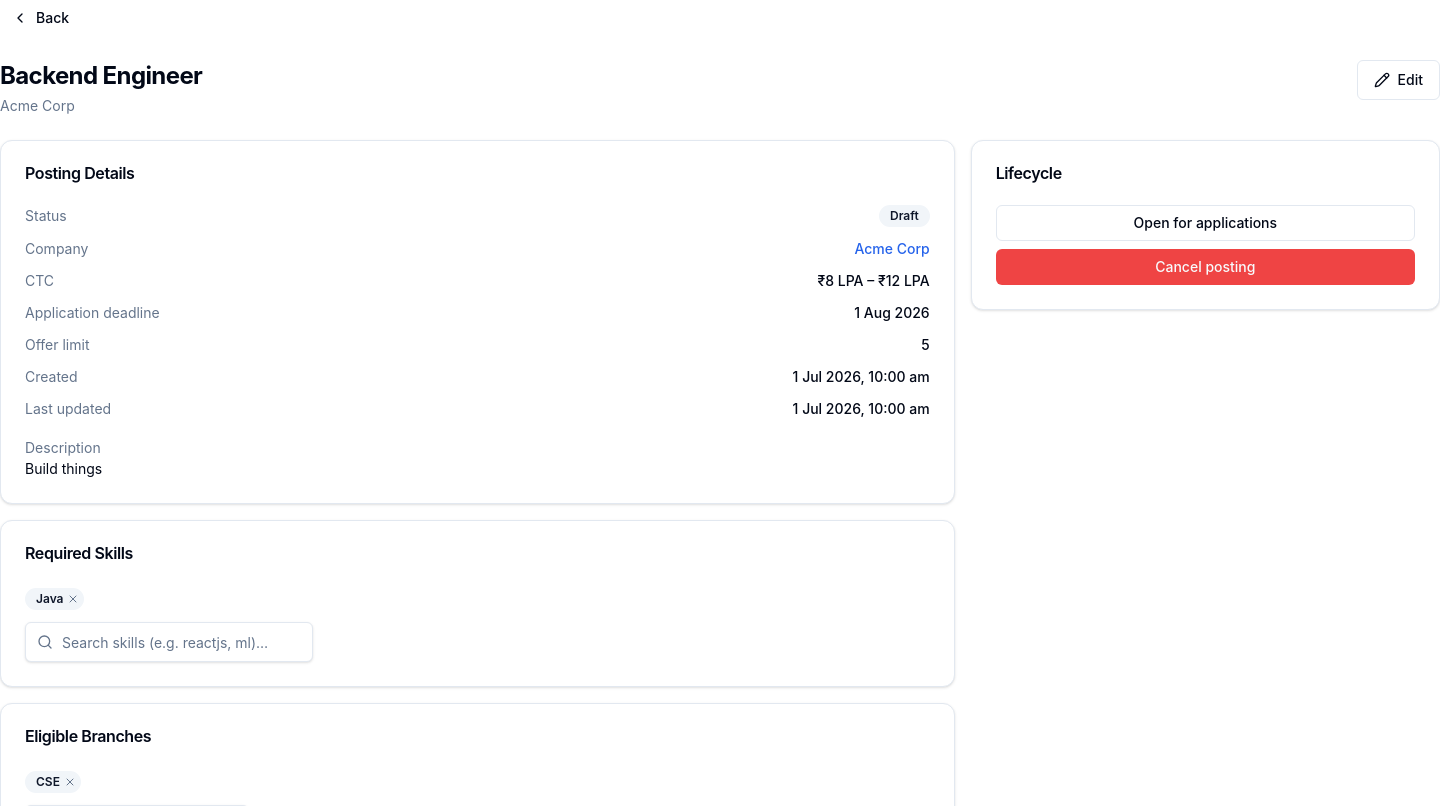
Test case: JobPostingDetailPage — officer › surfaces a backend 422 lifecycle rejection as an error toast
Click the button "Open for applications" at (1205, 223), box [996,205,1415,241]
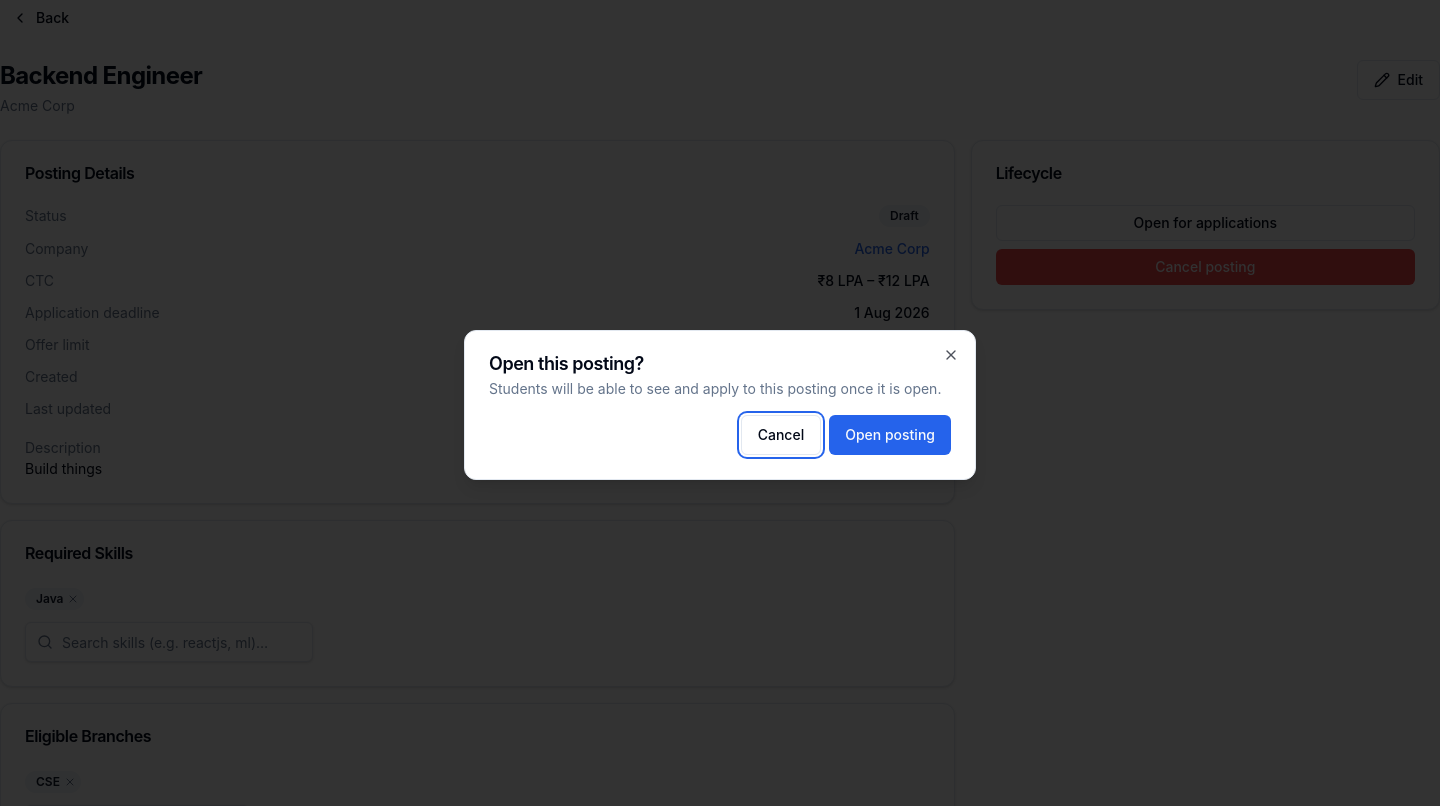
Click the button "Open posting" at (890, 435), box [829,415,951,455]
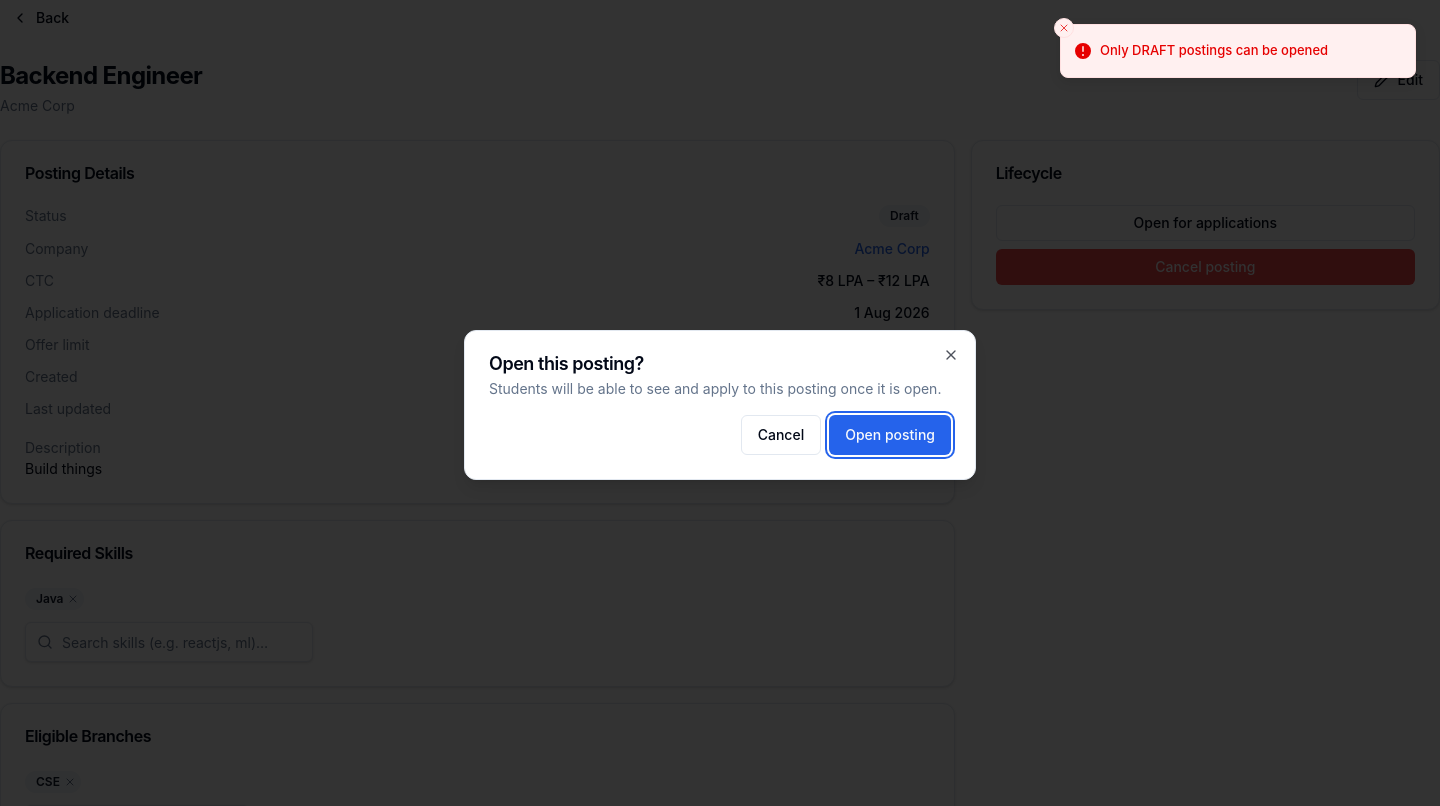
Now the text "Only DRAFT postings can be opened" is shown, box [1100,41,1328,60]
